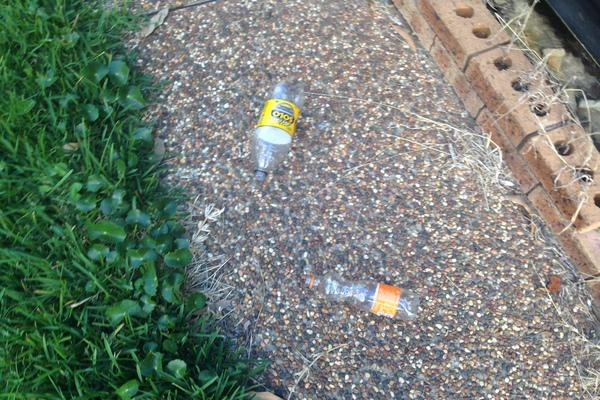Plastic Bottle: (305, 272, 418, 321), (252, 80, 306, 179)
